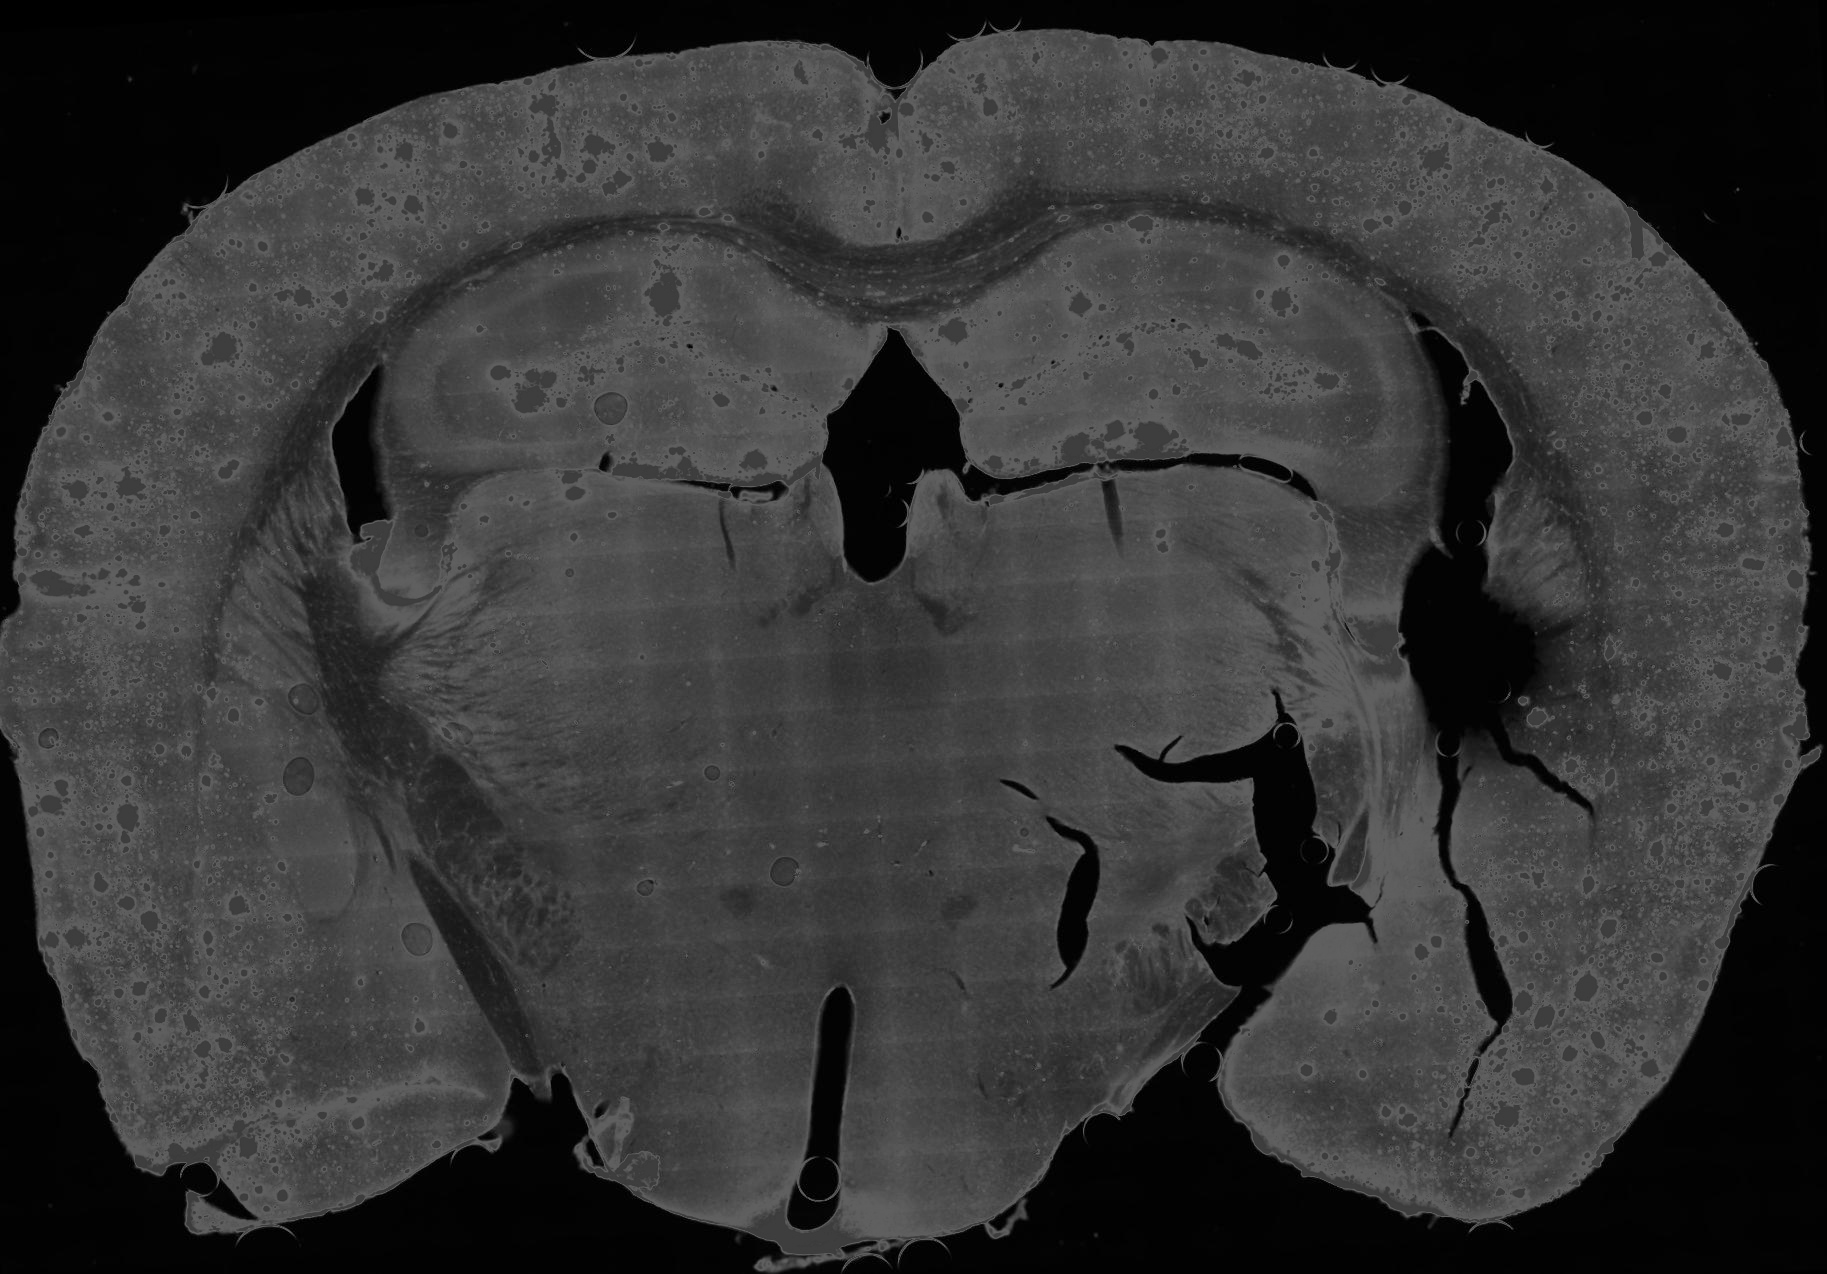Cerebral nuclei: (203, 440, 368, 928)
Hippocampal formation: (893, 215, 1427, 504), (385, 232, 889, 484)
Hypothalamus: (805, 797, 1261, 1259), (483, 808, 845, 1257)
Retrosplenial area: (795, 49, 901, 246), (895, 51, 1001, 244)
Somatosensory area: (1249, 56, 1812, 602), (19, 68, 575, 545)
Thalamus: (850, 469, 1352, 915), (378, 462, 875, 910)
